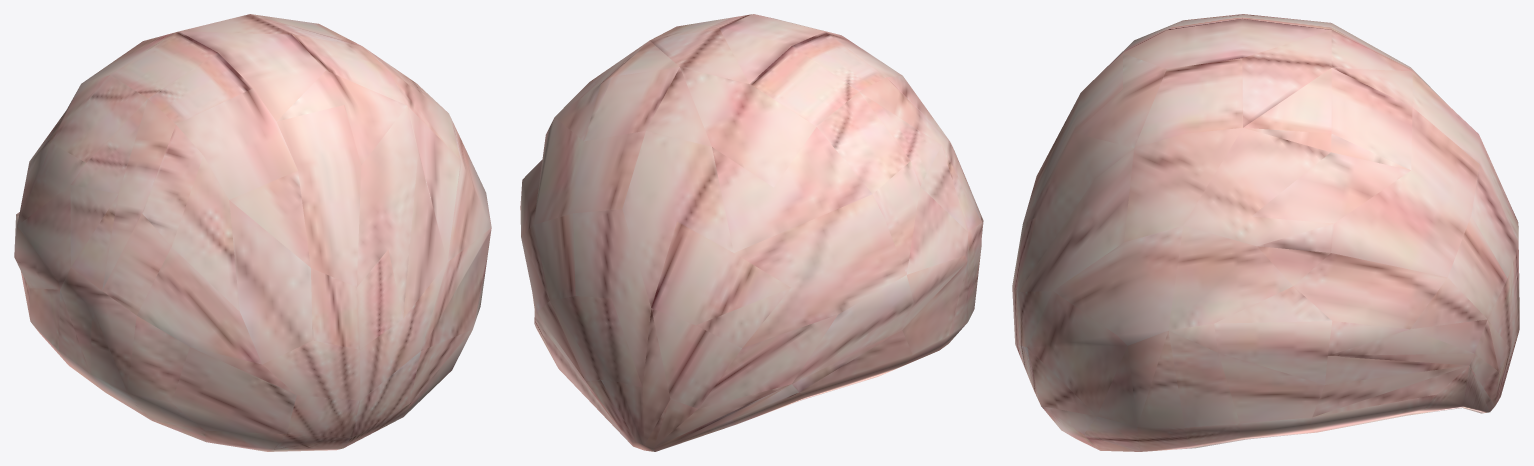
File: shell.glb
3 views of the same model, side by side, from view 1: azimuth 30°, elevation 25°; view 2: azimuth 150°, elevation 25°; view 3: azimuth 270°, elevation 25° (orthographic). The views are drawn at different scales.
Parts seen in each view (by area): view 1: shell; view 2: shell; view 3: shell.
Part boxes in pixels (left/top/right/bottom): shell: left=14, top=14, right=491, bottom=451; shell: left=520, top=14, right=983, bottom=451; shell: left=1012, top=14, right=1519, bottom=451.
Size of the model in its own units: 0.6 by 0.4822 by 0.5865.
1 material, 1 textured.
